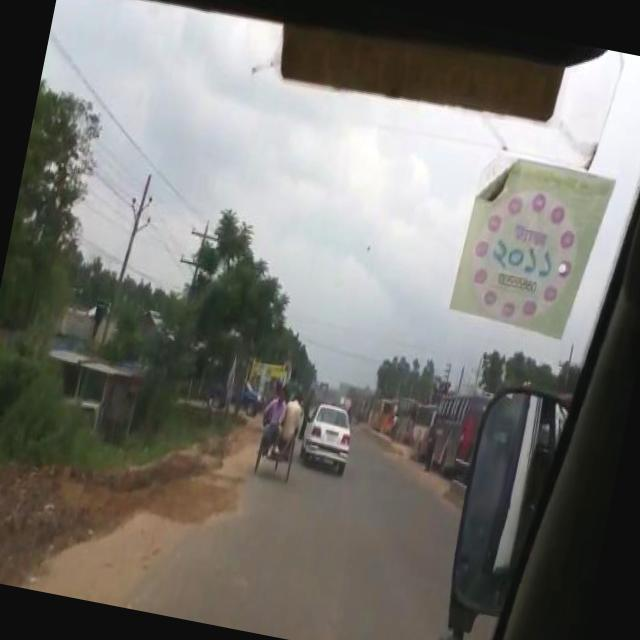car: (295, 398, 360, 480)
